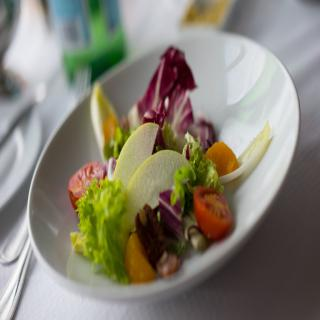tomato: (66, 160, 105, 216), (192, 184, 231, 235)
